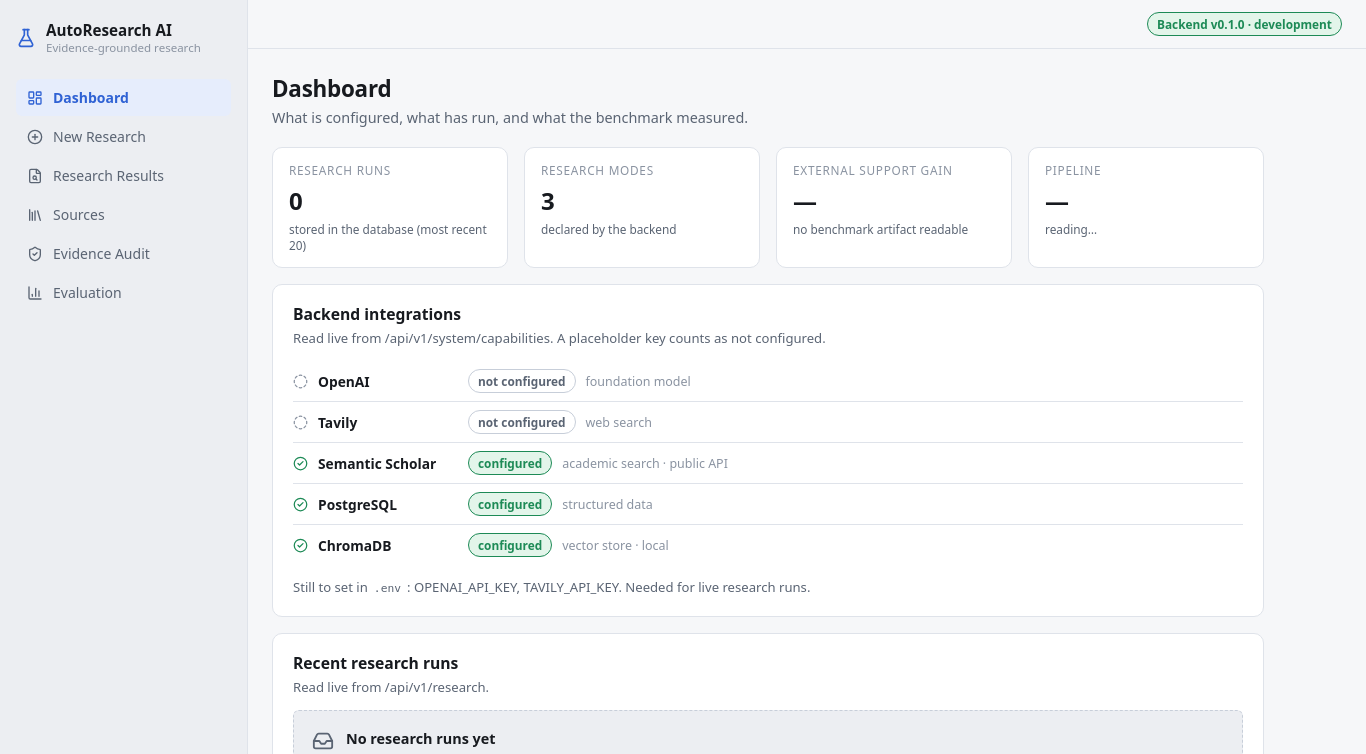
Test: navigation › moves between pages without a reload
Expected: the heading "Dashboard" is shown, [272,73,391,104]
Click the link "Evidence Audit" at (88, 254), box [27,244,150,263]
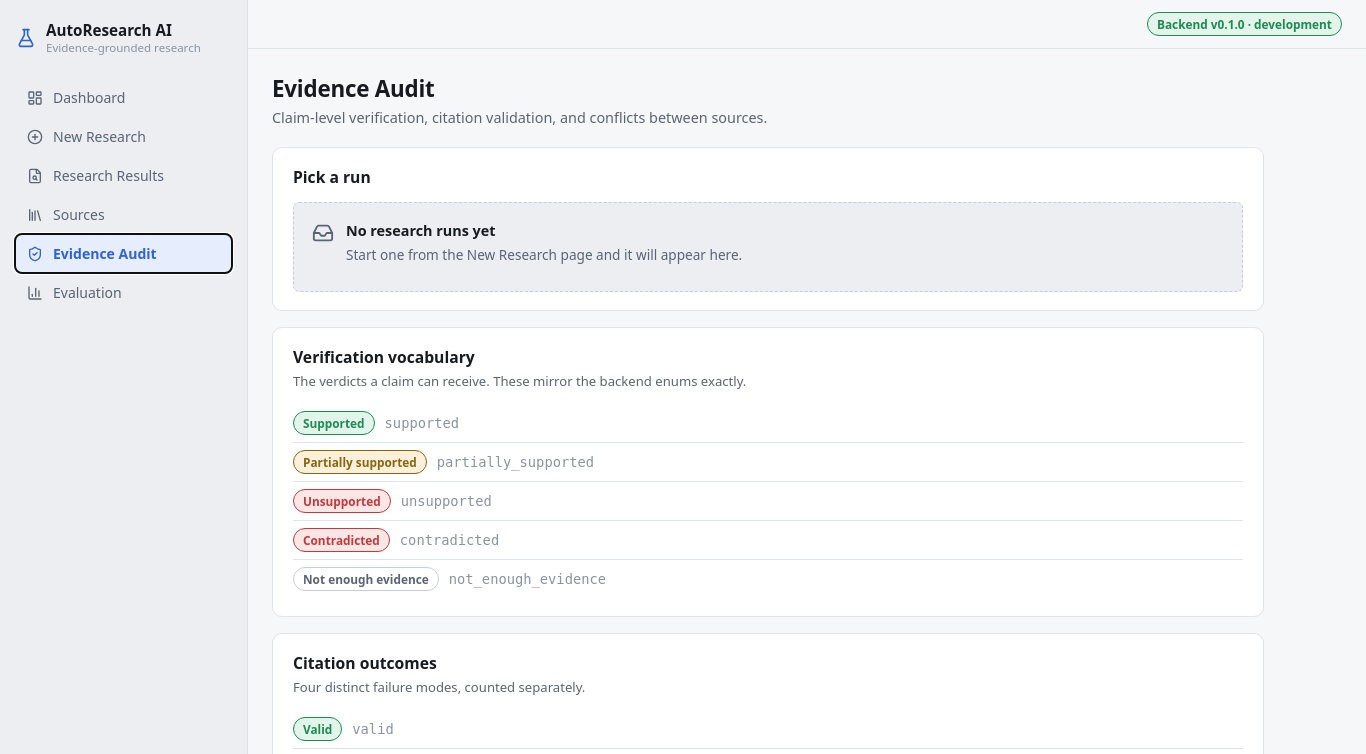
Now the heading "Evidence Audit" is shown, box [272,73,434,104]
